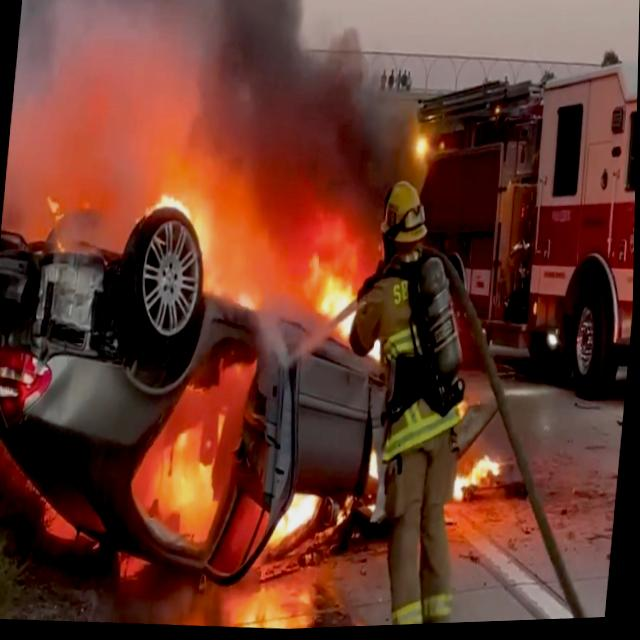fire: (89, 189, 268, 567)
smoke: (6, 0, 237, 186)
